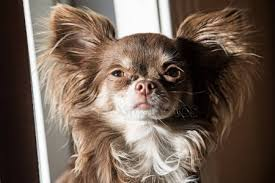chihuahua: (34, 1, 263, 170)
